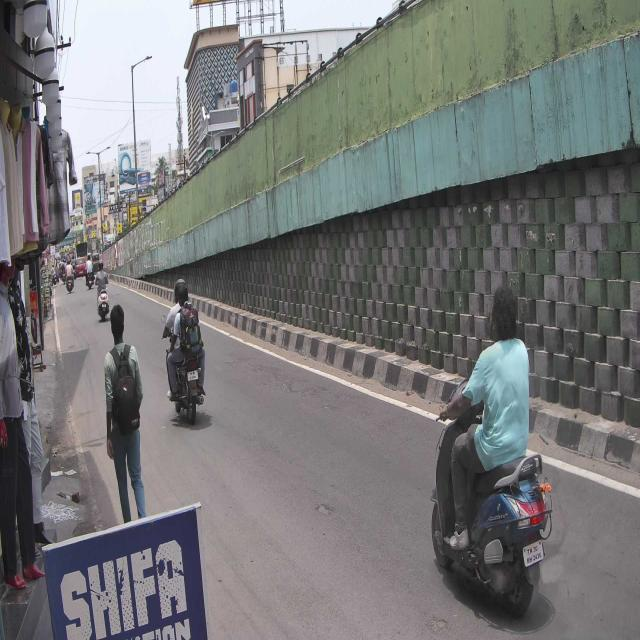double_rider: (160, 277, 207, 424)
single_rider: (430, 280, 554, 616)
